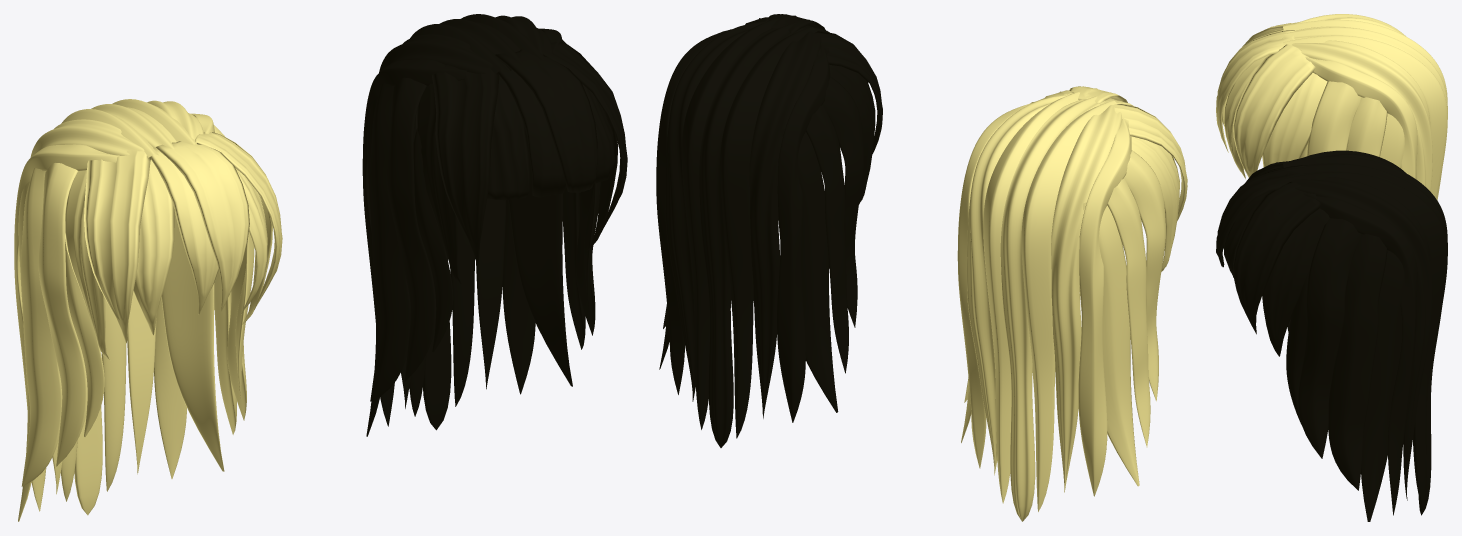
Rendered from hair.glb.
The picture shows the model from 3 angles, left to right: view 1: azimuth 30°, elevation 25°; view 2: azimuth 150°, elevation 25°; view 3: azimuth 270°, elevation 25°; orthographic projection. The views are drawn at different scales.
Visible parts, largest first — view 1: Side, Side2, Front, Front2, Back2, Back; view 2: Back, Back2, Side, Side2, Front, Front2; view 3: Side2, Back2, Back, Front2, Front, Side.
Part boxes in pixels (x1,y1,x2,y2): Side: (18,125,254,521); Side2: (366,40,599,436); Front: (65,132,282,360); Front2: (416,42,627,284); Back2: (362,14,562,430); Back: (14,99,214,515); Back: (957,92,1131,521); Back2: (656,18,830,447); Side: (961,150,1165,486); Side2: (659,77,864,412); Front: (1030,86,1187,271); Front2: (721,14,882,204); Side2: (1286,218,1408,521); Back2: (1283,150,1447,515); Back: (1283,14,1447,200); Front2: (1216,161,1329,356); Front: (1216,22,1327,179); Side: (1300,81,1408,167).
Size of the model in its own units: 9.64 by 7.19 by 4.3.
